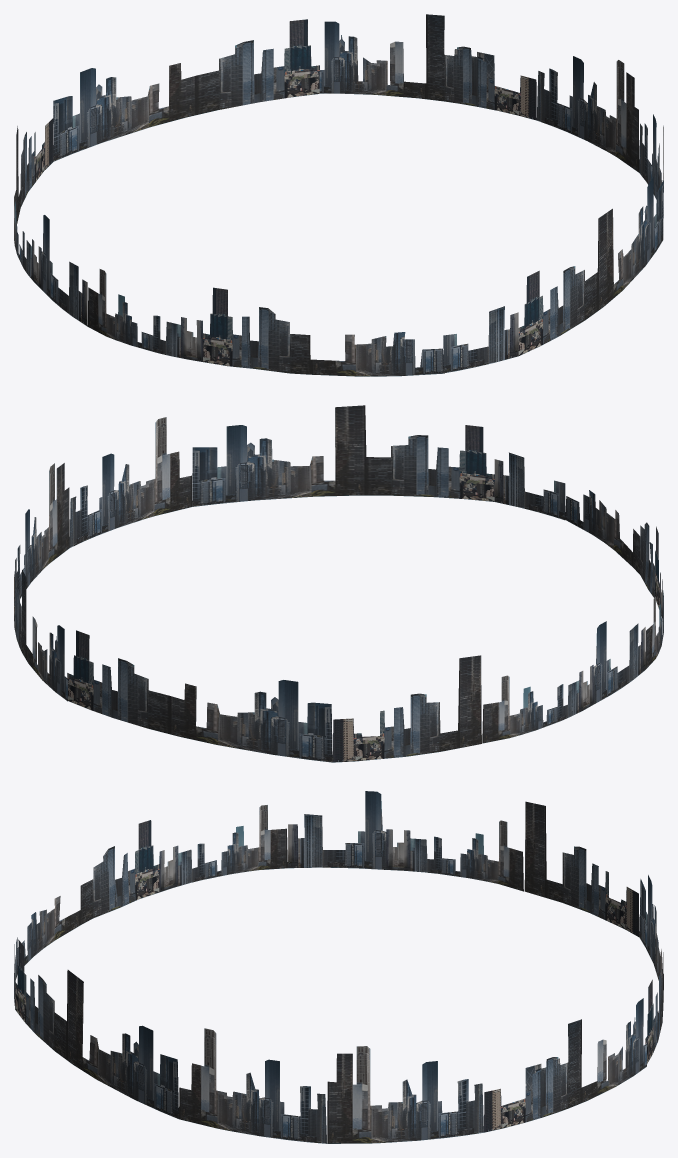
Rendered from Mexico_track_building_wall.dae.
The picture shows the model from 3 angles, top to bottom: view 1: azimuth 30°, elevation 25°; view 2: azimuth 150°, elevation 25°; view 3: azimuth 270°, elevation 25°; orthographic projection. The views are drawn at different scales.
Visible parts, largest first — view 1: building_wall; view 2: building_wall; view 3: building_wall.
Part boxes in pixels (x1,y1,x2,y2): building_wall: (14,14,663,376); building_wall: (14,405,663,762); building_wall: (14,791,663,1143).
Bounding box in the file's own units: 80.78 × 80.29 × 13.3.
1 material, 1 textured.
